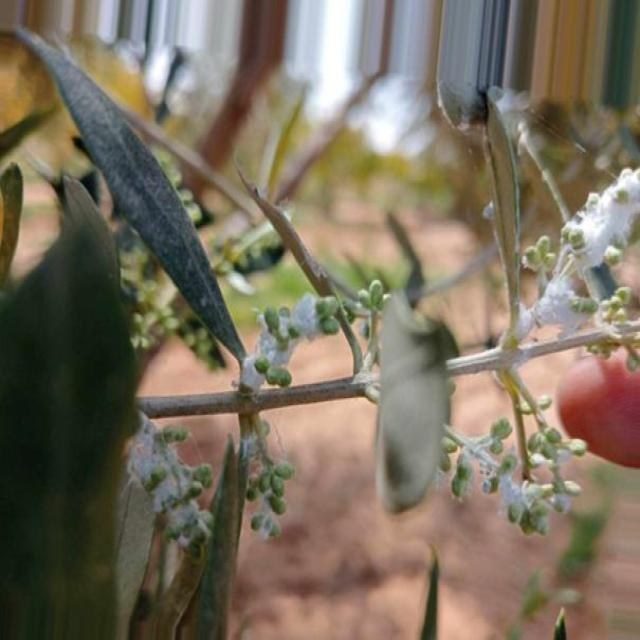Psyllid: (517, 167, 639, 339), (447, 419, 552, 533), (126, 418, 213, 553), (232, 292, 341, 392)
